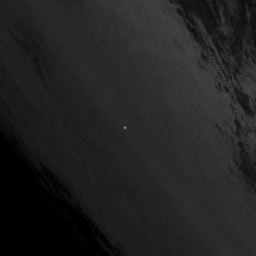Target: (122, 125, 128, 130)
